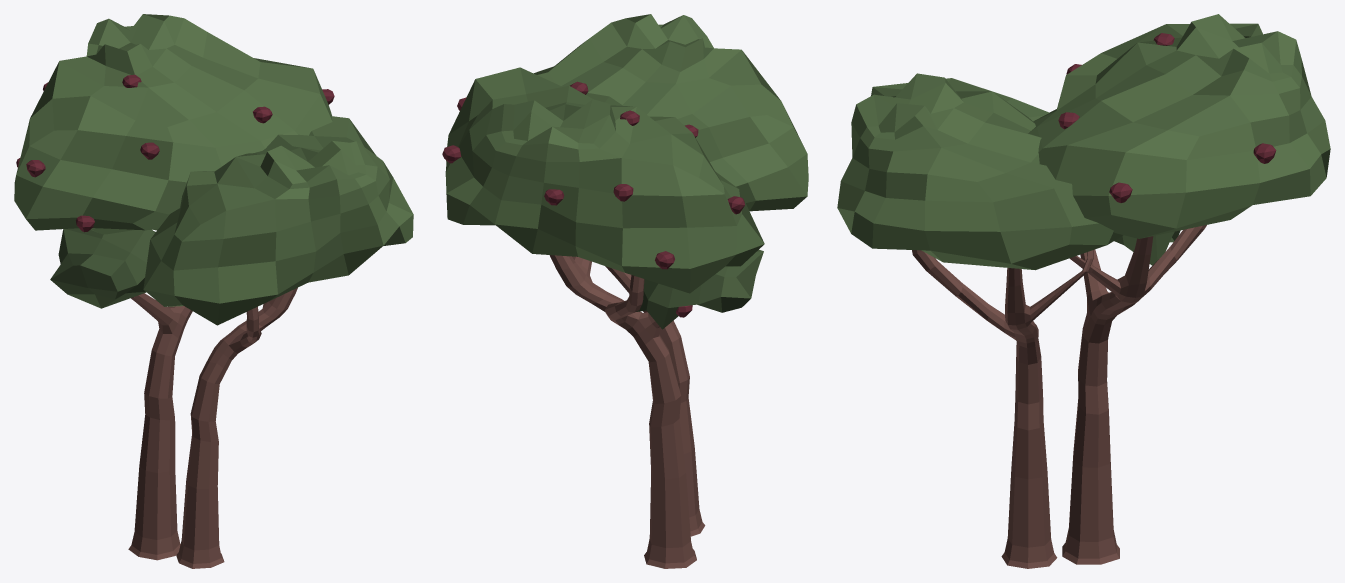
The picture shows the model from 3 angles, left to right: view 1: azimuth 30°, elevation 25°; view 2: azimuth 150°, elevation 25°; view 3: azimuth 270°, elevation 25°; orthographic projection. The views are drawn at different scales.
Parts seen in each view (by area): view 1: Cube036_1, Cube065_1, Cube036, Cube065, Cube036_2, Cube036_3; view 2: Cube036_1, Cube065_1, Cube036, Cube036_2, Cube065, Cube036_3; view 3: Cube036_1, Cube065_1, Cube036, Cube065, Cube036_3, Cube036_2.
Boxes of the visible parts, x1,y1,x2,y2 form: Cube036_1: (14,14,332,234); Cube065_1: (143,116,413,325); Cube036: (128,293,192,560); Cube065: (176,287,297,568); Cube036_2: (50,228,155,308); Cube036_3: (16,74,334,232); Cube036_1: (445,67,764,293); Cube065_1: (534,14,808,211); Cube036: (549,255,696,568); Cube036_2: (636,249,763,329); Cube065: (605,266,705,536); Cube036_3: (442,81,744,317); Cube036_1: (1028,14,1330,238); Cube065_1: (837,73,1123,270); Cube036: (1062,225,1206,564); Cube065: (912,250,1093,568); Cube036_3: (1058,33,1276,202); Cube036_2: (1114,230,1180,265).
Size of the model in its own units: 2.03 by 3 by 2.46.
